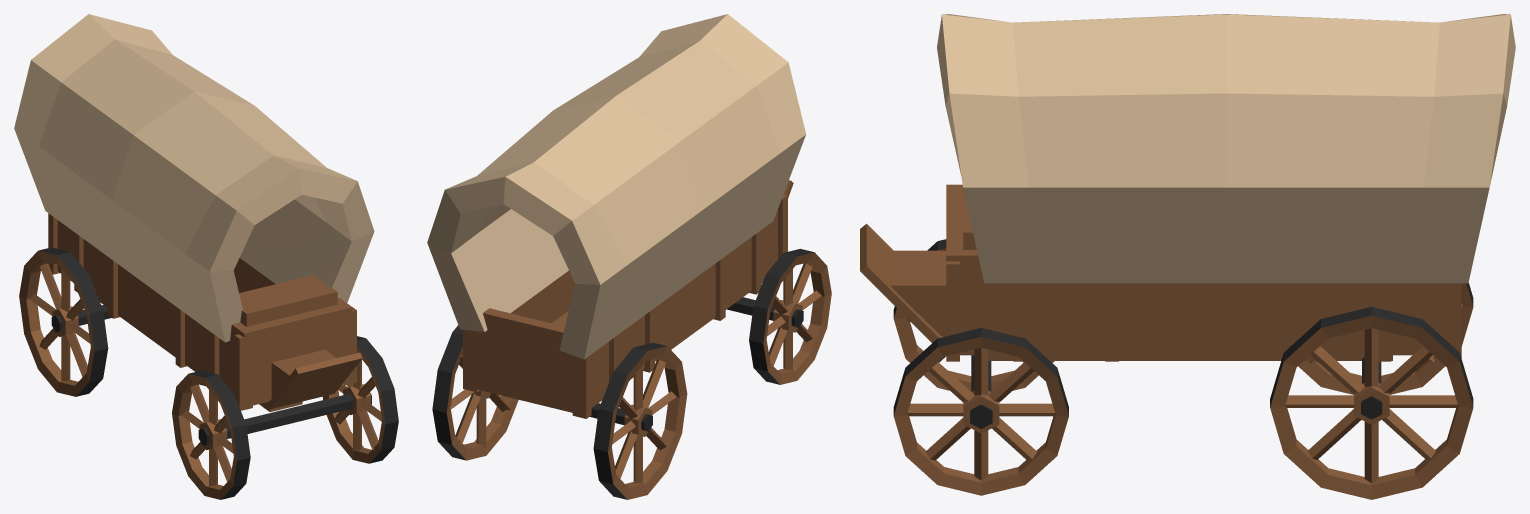
File: horse-wagon.glb
The picture shows the model from 3 angles, left to right: view 1: azimuth 30°, elevation 25°; view 2: azimuth 150°, elevation 25°; view 3: azimuth 270°, elevation 25°; orthographic projection. The views are drawn at different scales.
Parts seen in each view (by area): view 1: wagon-base, wagon-wheels_front, wagon-wheels_back; view 2: wagon-base, wagon-wheels_back, wagon-wheels_front; view 3: wagon-base, wagon-wheels_back, wagon-wheels_front.
Part boxes in pixels (left/top/right/bottom): wagon-base: left=14, top=14, right=374, bottom=411; wagon-wheels_front: left=172, top=336, right=398, bottom=499; wagon-wheels_back: left=19, top=247, right=111, bottom=396; wagon-base: left=427, top=14, right=806, bottom=418; wagon-wheels_back: left=432, top=325, right=687, bottom=499; wagon-wheels_front: left=726, top=248, right=831, bottom=384; wagon-base: left=860, top=14, right=1515, bottom=361; wagon-wheels_back: left=1270, top=283, right=1473, bottom=499; wagon-wheels_front: left=893, top=239, right=1068, bottom=495.
Bounding box in the file's own units: 1.76 × 3.19 × 4.4.
1 material, 1 textured.
